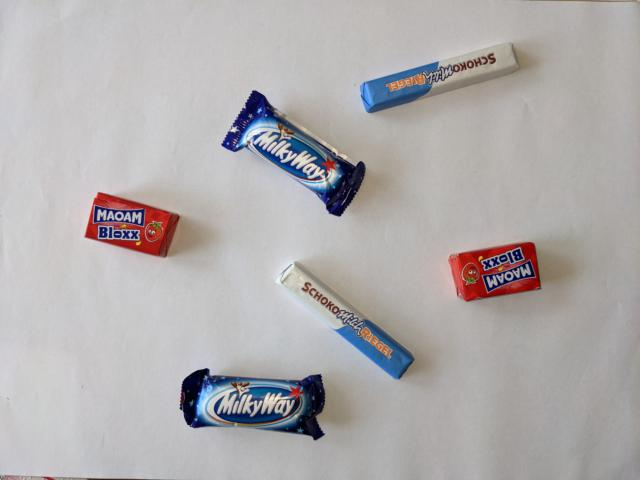MAOAM: (82, 190, 181, 259), (446, 239, 545, 305)
MilkyWay: (219, 89, 367, 218), (178, 366, 328, 442)
Schokoriegel: (272, 258, 416, 382), (355, 40, 523, 116)
